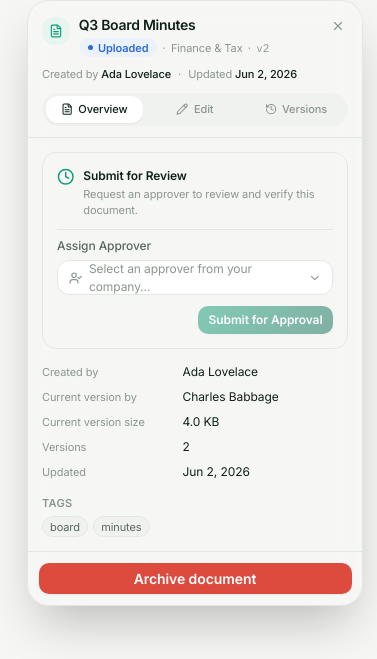
Scenario: GraphDocumentInspector › handles uploading a new version
The width and height of the screenshot is (377, 659).
Click the tab "Versions" at (296, 109), box [247,96,344,122]
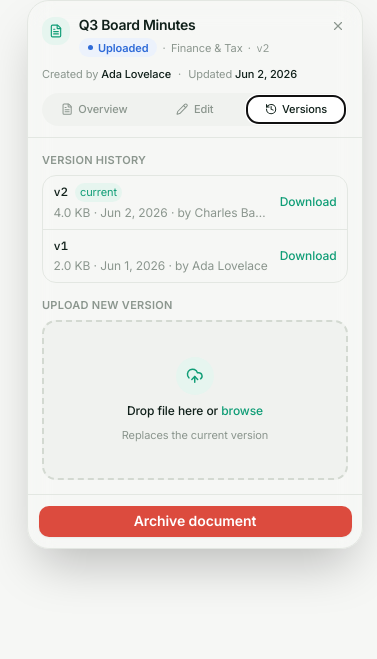
expect the button "Drop file here or browse Replaces the current version" is shown: met, box [42,320,348,480]
